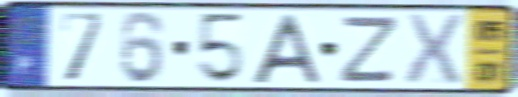5: (193, 11, 249, 86)
6: (118, 8, 165, 87)
7: (59, 10, 105, 84)
A: (248, 11, 325, 86)
X: (402, 11, 465, 88)
Z: (335, 14, 402, 85)
